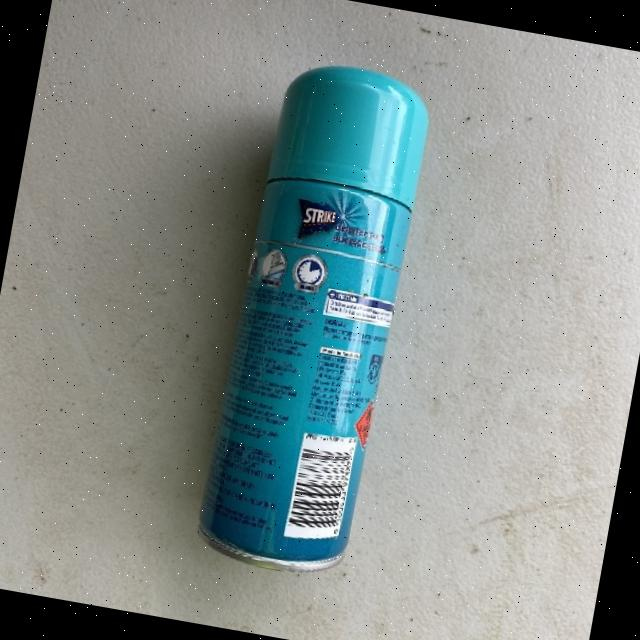metal: (190, 51, 436, 581)
